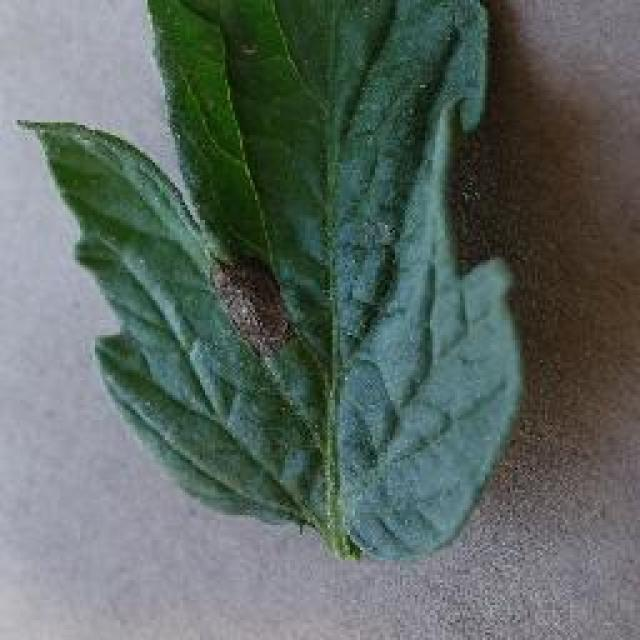Early Blight: (18, 0, 530, 550)
